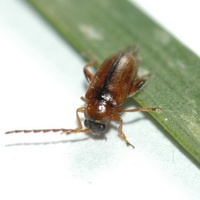insect: (5, 50, 160, 147)
